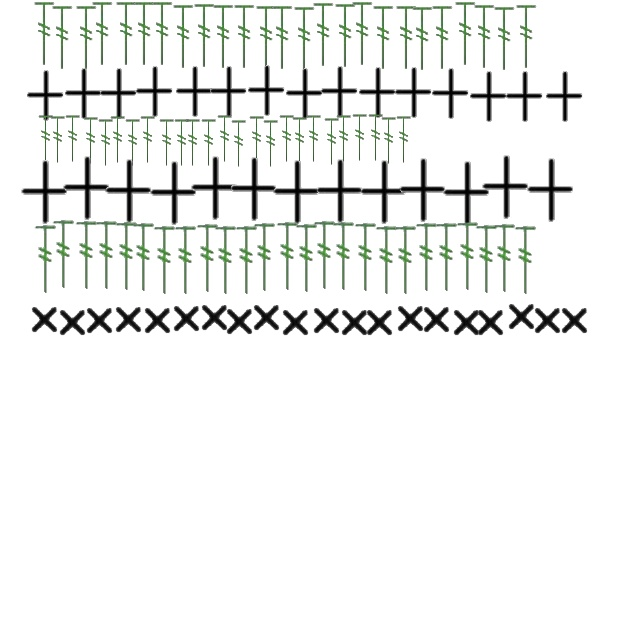double: (18, 160, 70, 226), (60, 156, 112, 222), (188, 156, 240, 222), (270, 160, 322, 226), (396, 158, 448, 224), (524, 158, 576, 224), (102, 160, 154, 224), (440, 162, 492, 226), (358, 160, 408, 226), (148, 162, 198, 226), (228, 158, 278, 222), (314, 160, 364, 224), (480, 156, 530, 220), (24, 70, 66, 122), (62, 68, 104, 120), (318, 66, 360, 118), (356, 67, 398, 119), (392, 67, 434, 119), (98, 68, 138, 120), (134, 66, 174, 118), (174, 66, 214, 118), (208, 66, 248, 118), (246, 65, 286, 117), (284, 68, 324, 120), (430, 68, 470, 120), (468, 71, 508, 123), (504, 71, 544, 123), (544, 71, 584, 123), (224, 304, 256, 338), (84, 304, 116, 336), (142, 304, 174, 336), (280, 306, 312, 338), (364, 306, 396, 338), (506, 300, 538, 332), (532, 304, 564, 336), (30, 302, 60, 336), (114, 302, 144, 336), (200, 300, 230, 334), (252, 300, 282, 334), (422, 302, 452, 336), (58, 306, 88, 338), (172, 302, 202, 334), (312, 304, 342, 336), (340, 306, 370, 338), (396, 302, 426, 334), (452, 306, 482, 338), (476, 306, 506, 338), (560, 304, 590, 336)
fan: (32, 0, 58, 68), (50, 4, 76, 72), (74, 4, 100, 72), (90, 0, 116, 68), (192, 2, 218, 70), (254, 4, 280, 72), (270, 4, 296, 72), (350, 0, 376, 68), (394, 4, 420, 72), (430, 4, 456, 72), (33, 224, 57, 296), (74, 220, 98, 292), (94, 220, 118, 292), (131, 222, 155, 294), (252, 222, 276, 294), (312, 220, 336, 292), (353, 222, 377, 294), (414, 222, 438, 294), (434, 222, 458, 294), (474, 224, 498, 296), (114, 0, 140, 66), (132, 0, 158, 66), (150, 0, 176, 66), (232, 4, 258, 70), (292, 6, 318, 72), (410, 6, 436, 72), (472, 4, 498, 70), (492, 6, 518, 72), (514, 4, 540, 70), (51, 220, 75, 290), (114, 222, 138, 292), (152, 226, 176, 296), (173, 226, 197, 296), (195, 224, 219, 294), (213, 226, 237, 296), (234, 226, 258, 296), (275, 222, 299, 292), (294, 224, 318, 294), (331, 222, 355, 292), (374, 226, 398, 296), (393, 226, 417, 296), (455, 222, 479, 292), (492, 224, 516, 294), (513, 226, 537, 296), (334, 2, 358, 70), (372, 4, 396, 72), (454, 0, 478, 68), (172, 4, 196, 70), (212, 4, 236, 70), (312, 2, 336, 68), (37, 114, 55, 164), (64, 114, 82, 164), (82, 116, 100, 166), (97, 118, 115, 168), (124, 118, 142, 168), (158, 118, 176, 168), (173, 118, 191, 168), (184, 118, 202, 168), (200, 118, 218, 168), (216, 114, 234, 164), (278, 114, 296, 164), (291, 116, 309, 166), (305, 114, 323, 164), (335, 114, 353, 164), (380, 116, 398, 166), (49, 116, 67, 164), (109, 116, 127, 164), (139, 116, 157, 164), (230, 120, 248, 168), (248, 116, 266, 164), (262, 120, 280, 168), (323, 118, 341, 166), (351, 114, 369, 162), (367, 114, 385, 162), (395, 116, 413, 164)
